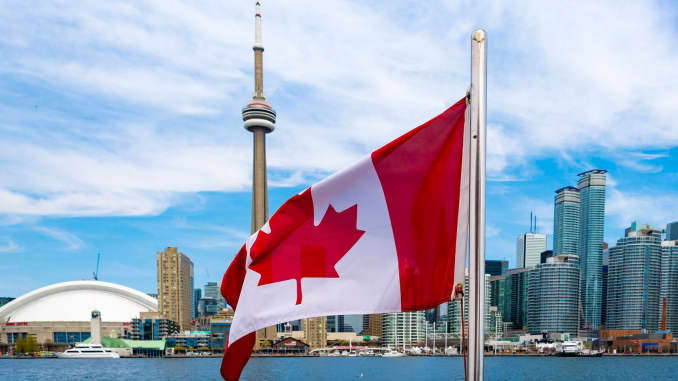Canada flag: (218, 95, 467, 381)
